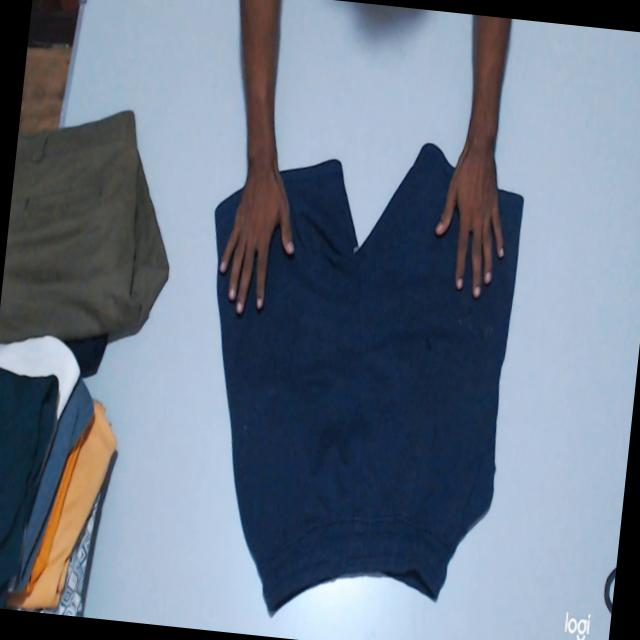new-garment: (216, 143, 523, 611), (217, 143, 522, 611), (214, 190, 241, 264)
